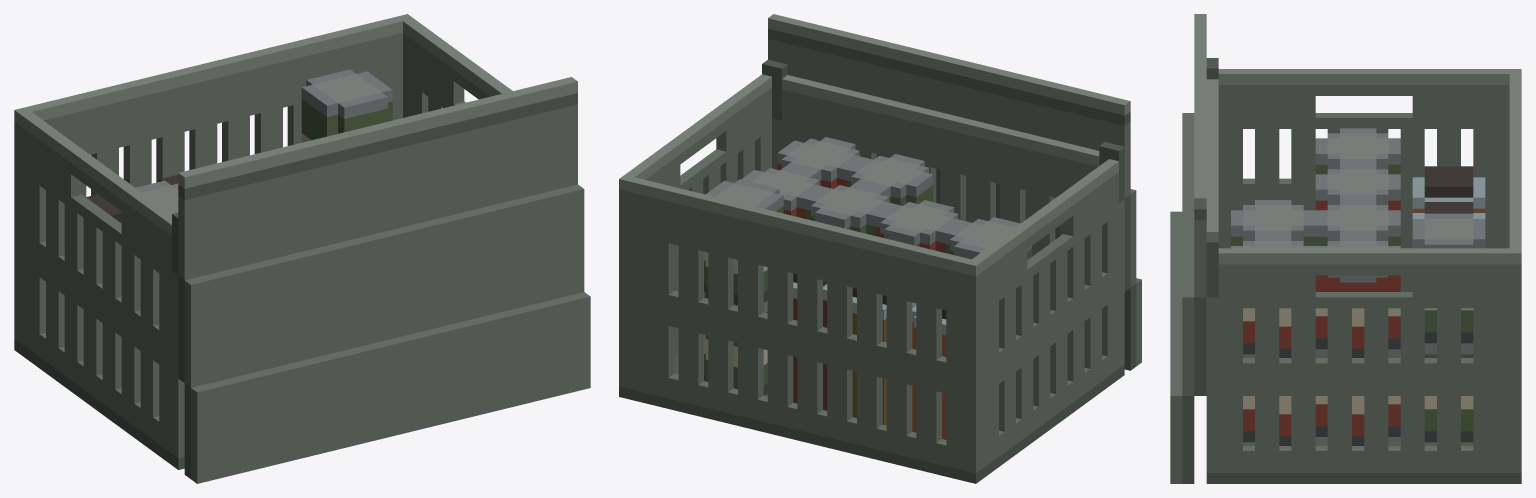
Rendered from Claude_food_storage_crate.glb.
The picture shows the model from 3 angles, left to right: view 1: azimuth 30°, elevation 25°; view 2: azimuth 150°, elevation 25°; view 3: azimuth 270°, elevation 25°; orthographic projection. The views are drawn at different scales.
Parts seen in each view (by area): view 1: Claude_food_storage_crate; view 2: Claude_food_storage_crate; view 3: Claude_food_storage_crate.
Boxes of the visible parts, x1,y1,x2,y2 form: Claude_food_storage_crate: (14,14,590,483); Claude_food_storage_crate: (619,14,1141,483); Claude_food_storage_crate: (1170,14,1521,483).
Size of the model in its own units: 0.45 by 0.325 by 0.3625.
